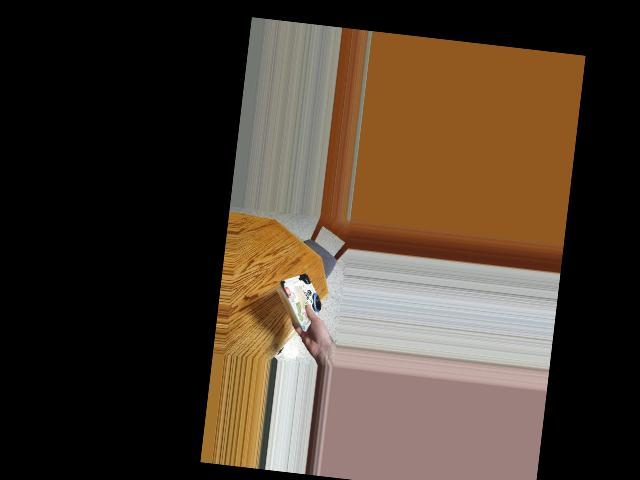cheese: (264, 266, 326, 328)
